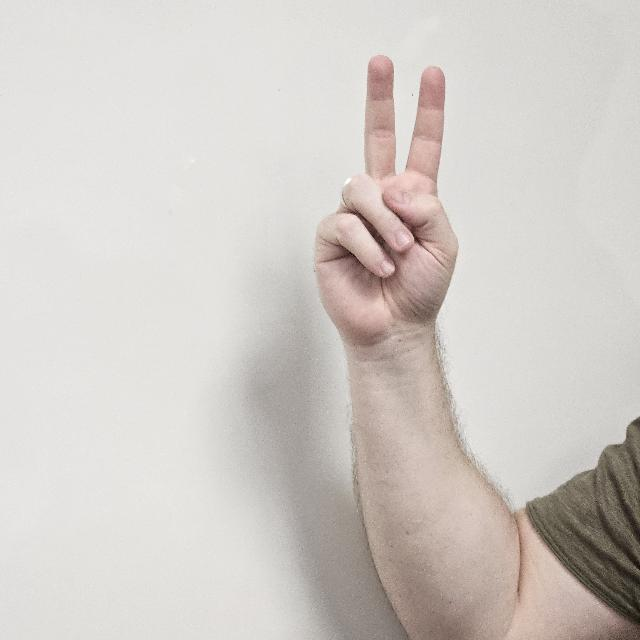Triangulo: (304, 51, 472, 405)
